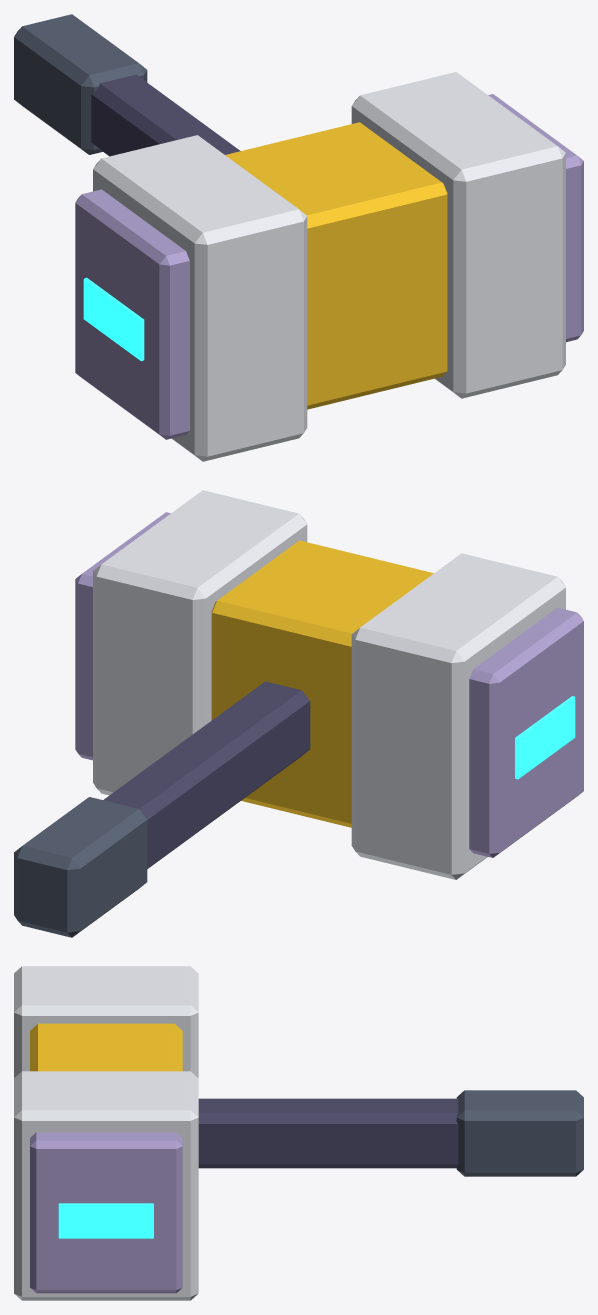
Rendered from Future_Hammer_v003.fbx.
The picture shows the model from 3 angles, top to bottom: view 1: azimuth 30°, elevation 25°; view 2: azimuth 150°, elevation 25°; view 3: azimuth 270°, elevation 25°; orthographic projection. The views are drawn at different scales.
Visible parts, largest first — view 1: Future_Hammer__RECEIVER_MESH; view 2: Future_Hammer__RECEIVER_MESH; view 3: Future_Hammer__RECEIVER_MESH.
Part boxes in pixels (left/top/right/bottom): Future_Hammer__RECEIVER_MESH: left=14, top=14, right=583, bottom=461; Future_Hammer__RECEIVER_MESH: left=14, top=490, right=583, bottom=937; Future_Hammer__RECEIVER_MESH: left=14, top=966, right=583, bottom=1300.
Bounding box in the file's own units: 1.31 × 0.66 × 1.79.
